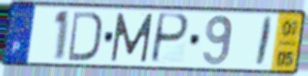1: (52, 9, 72, 62)
9: (201, 14, 234, 68)
D: (67, 10, 103, 63)
I: (253, 15, 276, 69)
M: (109, 11, 156, 64)
P: (148, 12, 191, 66)
